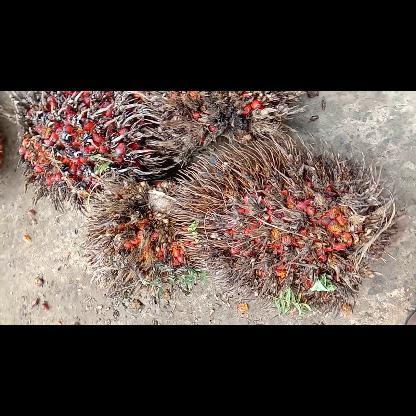Terlalu masak: (167, 130, 393, 315), (0, 91, 166, 213), (77, 176, 217, 310), (122, 91, 310, 157)
